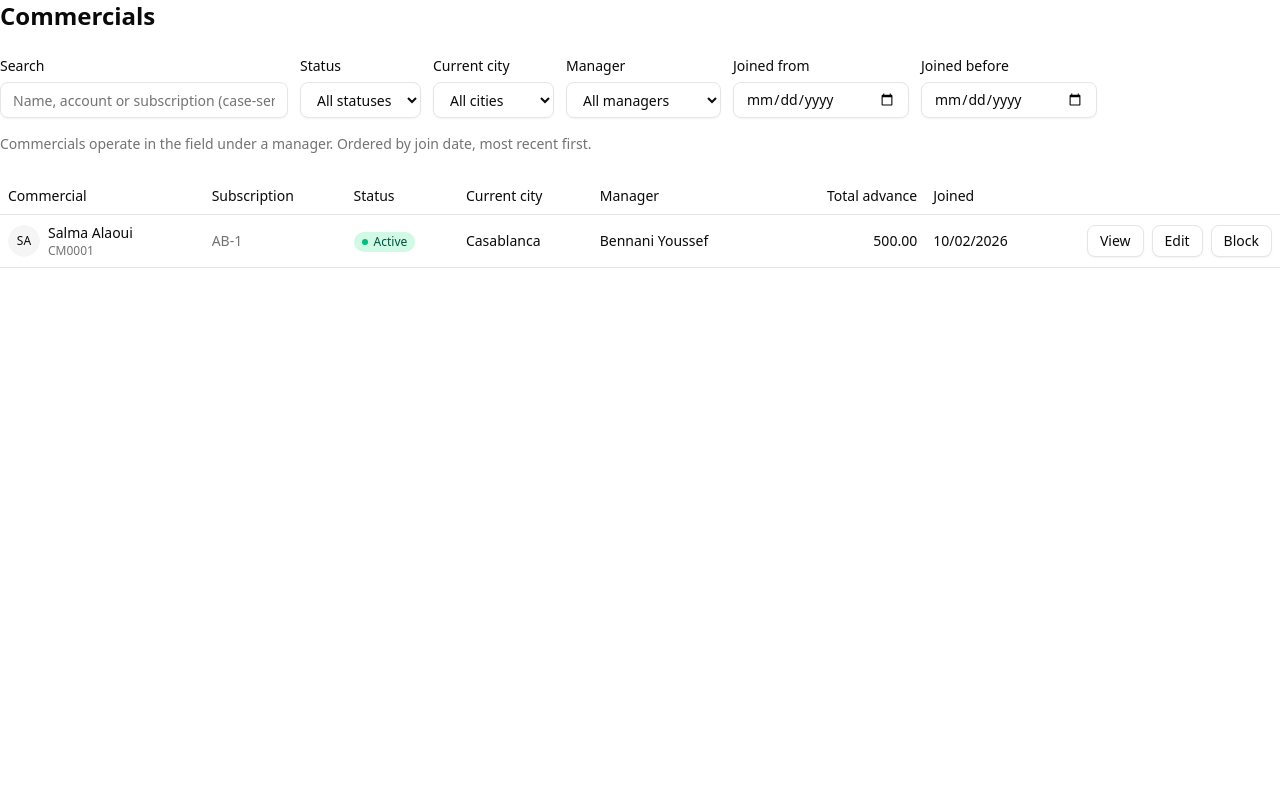
it: edit › rejects an empty required field client-side
Step 1. Click the button with aria-label "edit salma alaoui" → (1177, 241), box top-left (1152, 225), bottom-right (1203, 257)
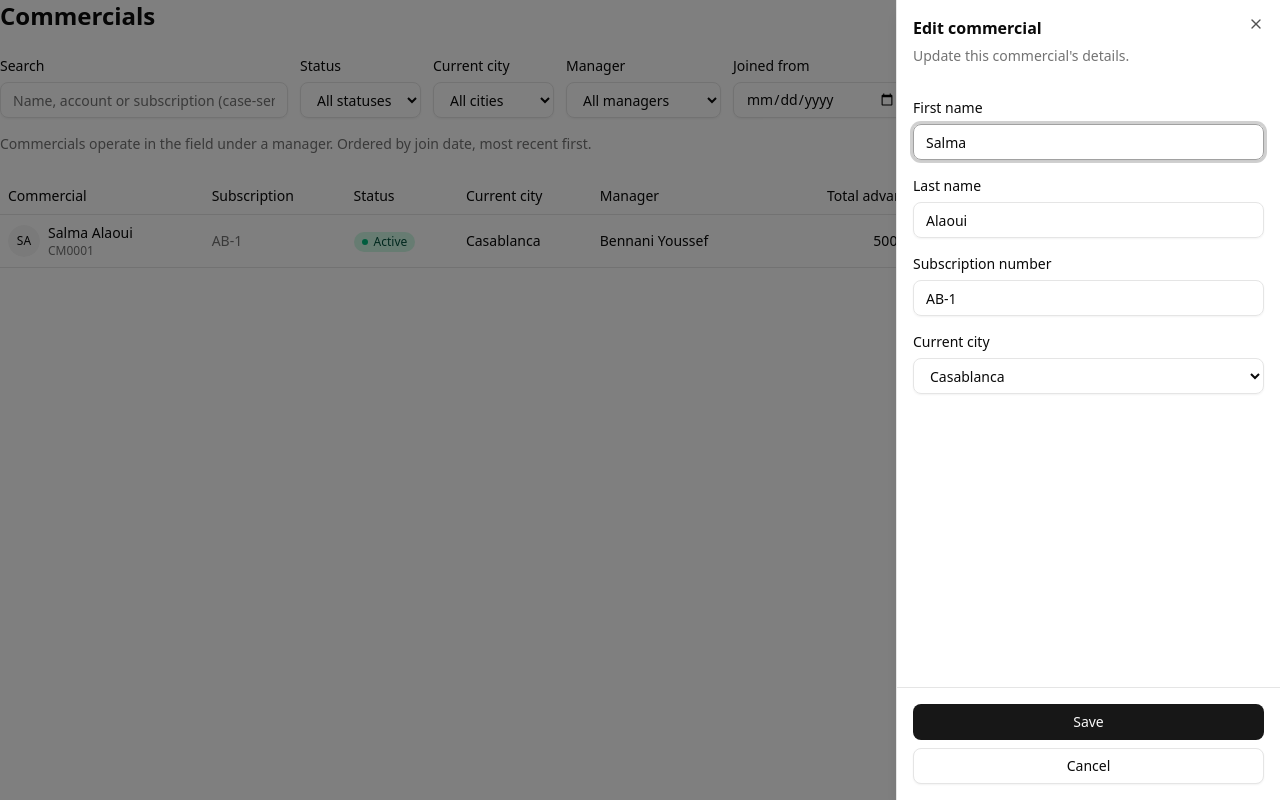
Step 2. Clear the field labelled "First name" → (1088, 142), box top-left (913, 124), bottom-right (1264, 160)
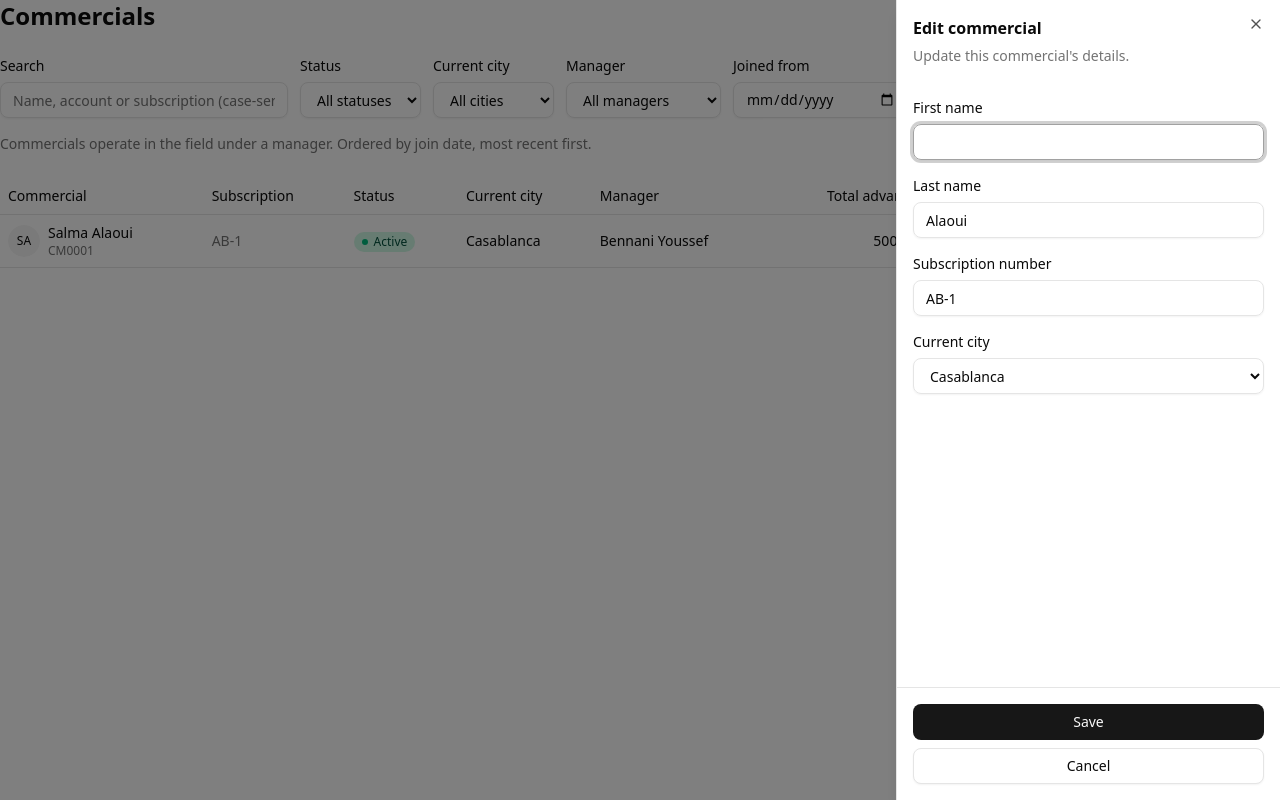
Step 3. Click the button "Save" → (1088, 722), box top-left (913, 704), bottom-right (1264, 740)
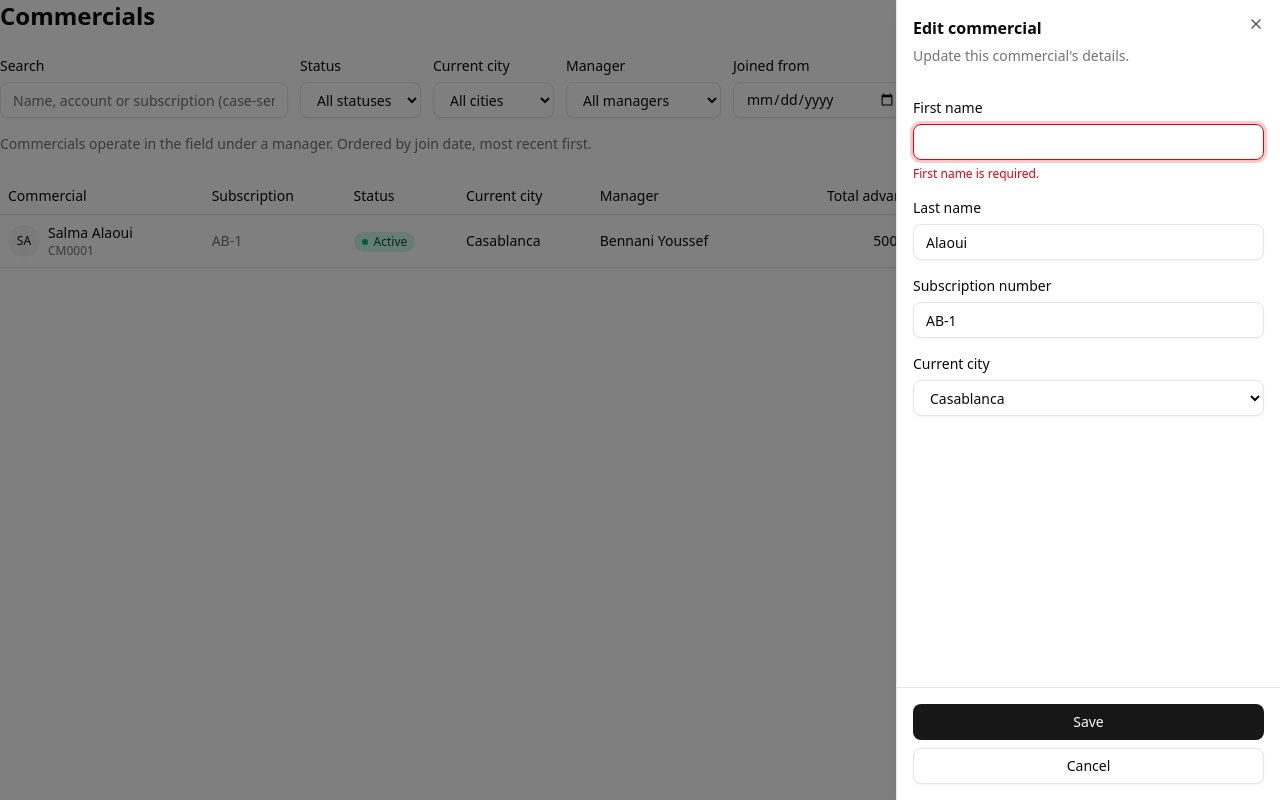
Result: the text "First name is required." is shown at top-left (913, 165), bottom-right (1039, 182)
